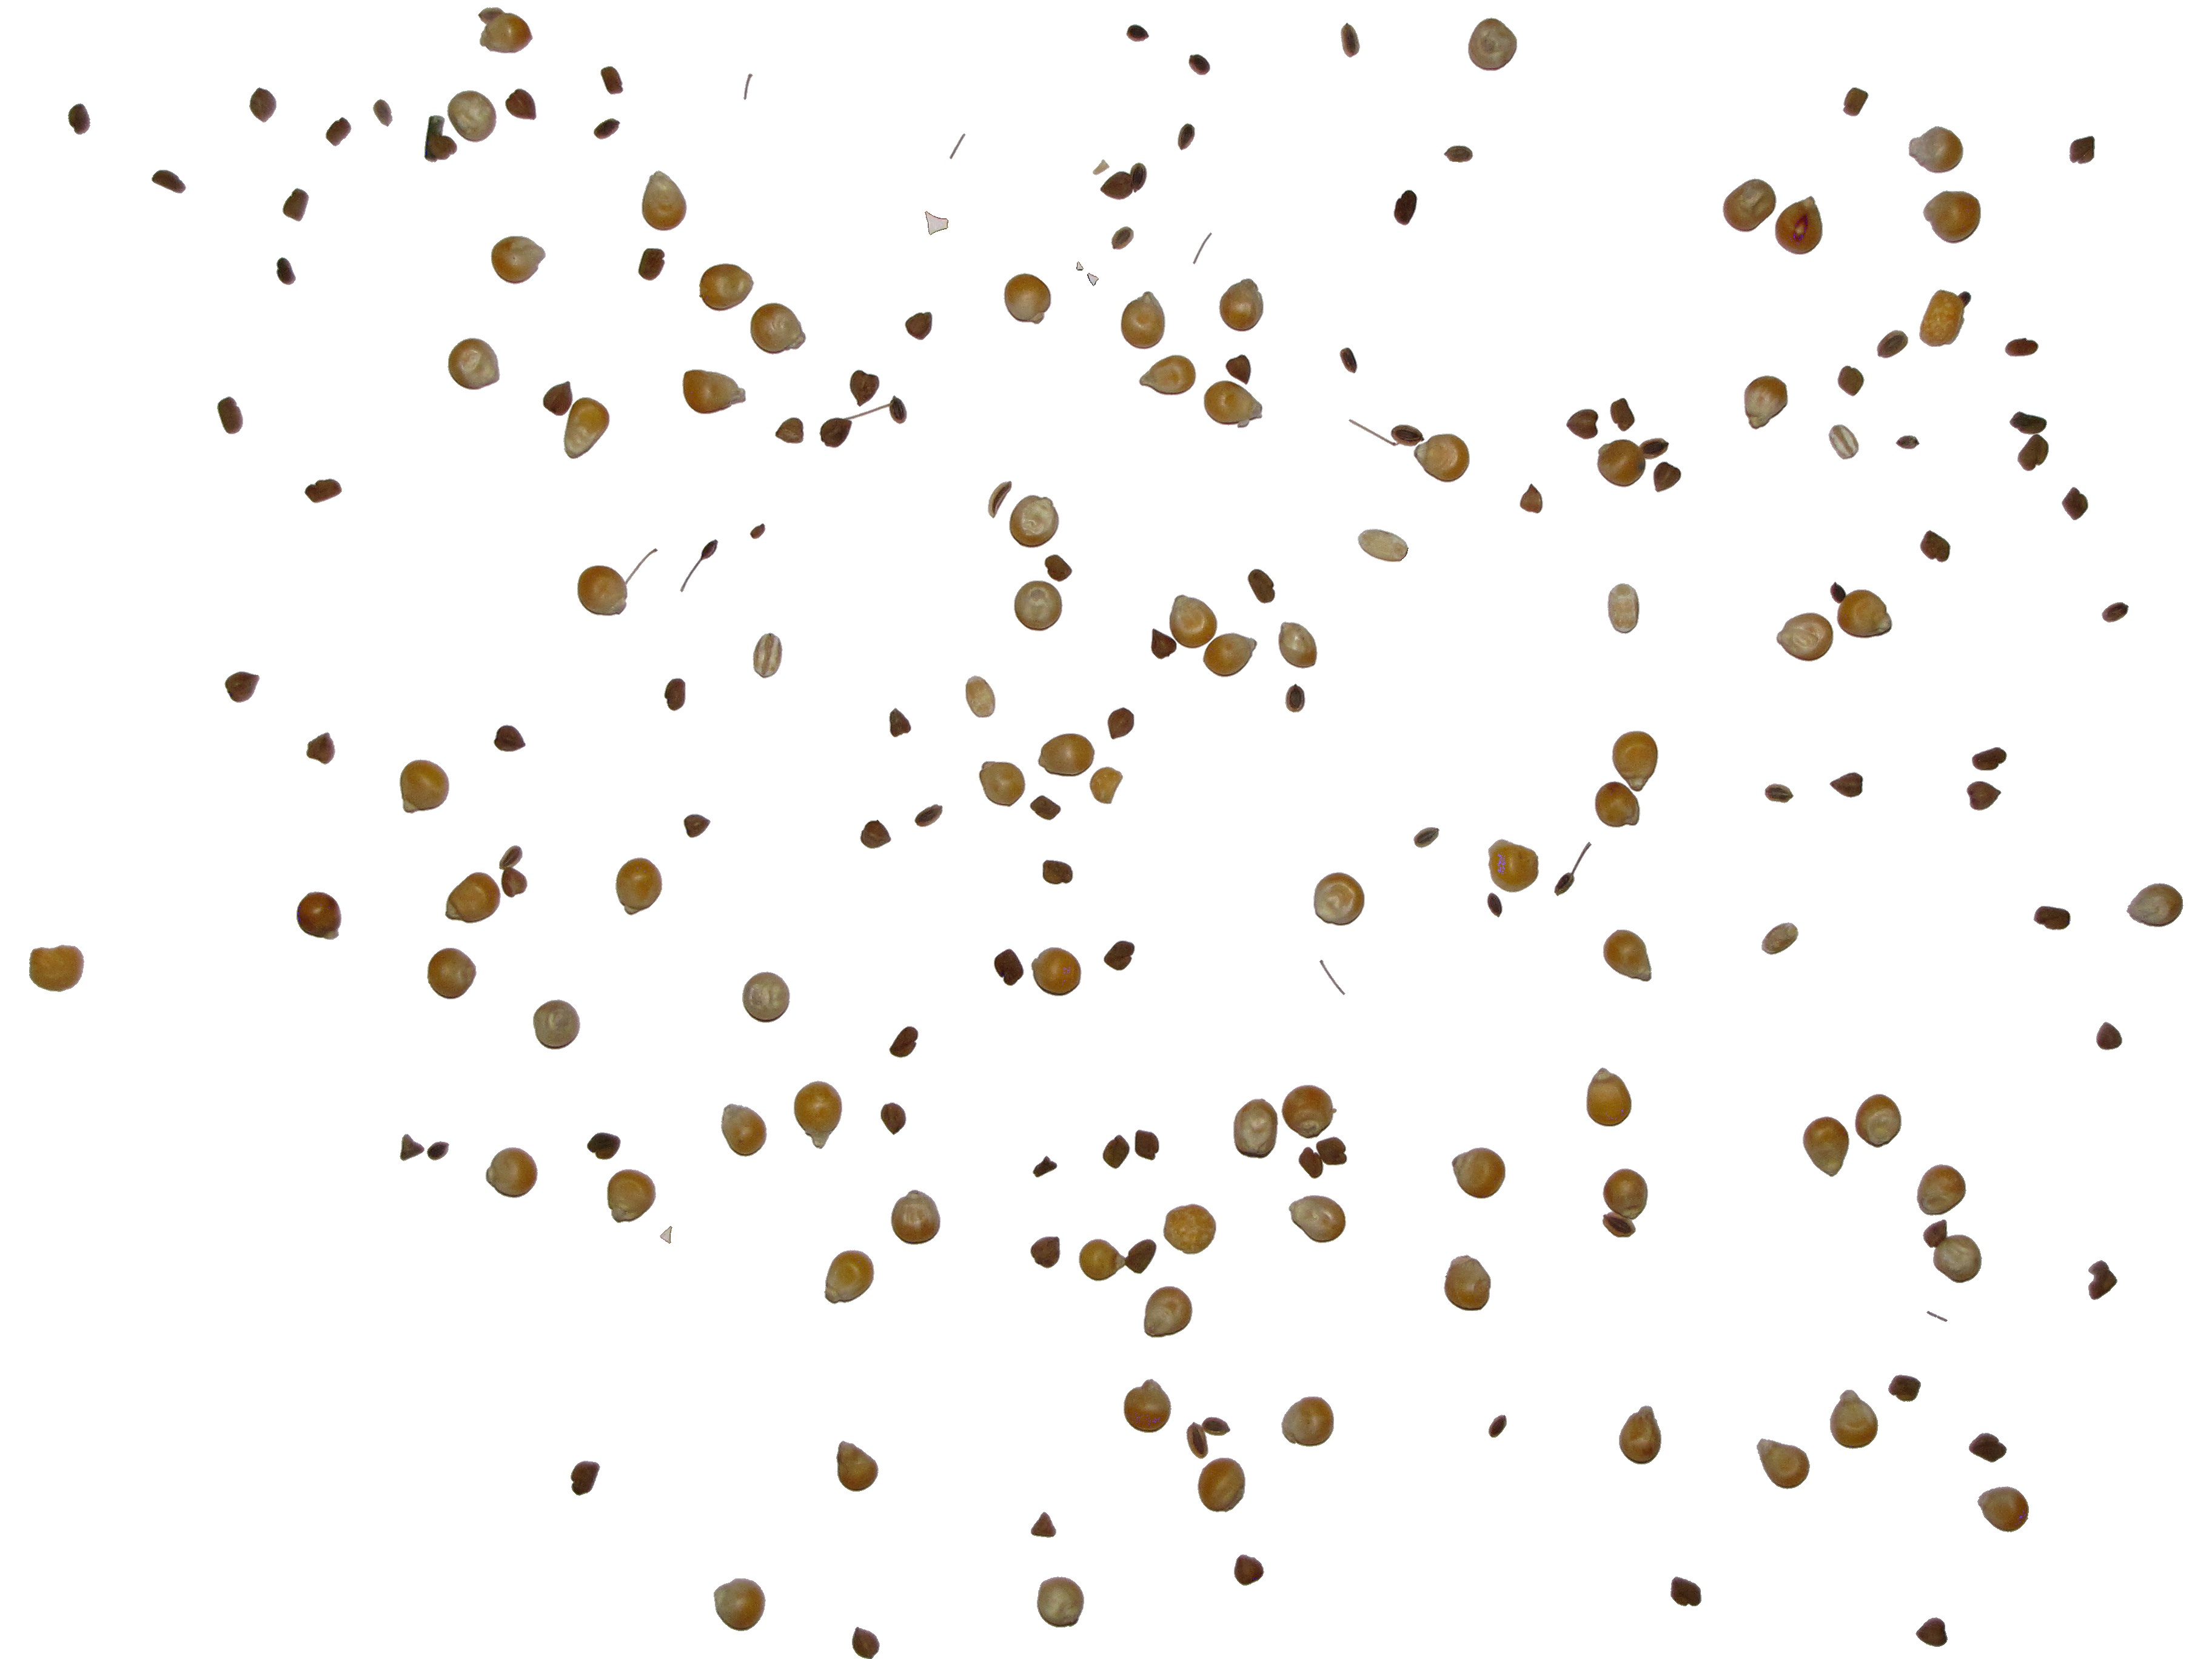buckwheat: (425, 115, 456, 162), (2088, 1260, 2116, 1300), (850, 369, 880, 406), (2019, 434, 2048, 471), (995, 950, 1024, 985), (225, 673, 260, 702), (1970, 1434, 2006, 1462), (505, 89, 536, 120), (1921, 530, 1951, 563), (543, 382, 573, 415), (1103, 1134, 1130, 1169), (1966, 782, 2001, 810), (1916, 1617, 1947, 1647), (1235, 1554, 1264, 1586), (1568, 410, 1599, 439), (1031, 1237, 1061, 1269), (1247, 570, 1275, 603), (571, 1464, 599, 1497), (500, 864, 528, 897), (1101, 171, 1134, 199), (820, 415, 848, 448), (249, 87, 275, 122), (988, 481, 1012, 518), (218, 397, 242, 434), (1104, 941, 1134, 971), (890, 1026, 918, 1058), (852, 1628, 880, 1659), (307, 732, 334, 763), (1670, 1577, 1702, 1605), (1888, 1375, 1921, 1401), (587, 1133, 620, 1159), (1393, 190, 1418, 225), (2010, 411, 2047, 434), (305, 479, 341, 502), (2034, 906, 2071, 929), (1653, 462, 1681, 491), (860, 821, 890, 849), (2062, 488, 2088, 519), (1831, 772, 1862, 798), (1108, 708, 1134, 739), (639, 249, 665, 281), (284, 188, 308, 221), (152, 171, 186, 193), (1972, 748, 2006, 770), (1047, 554, 1075, 582), (1838, 366, 1864, 396), (1878, 331, 1907, 357), (495, 725, 524, 751), (1339, 23, 1360, 59), (1611, 399, 1635, 430), (881, 1103, 906, 1134), (326, 118, 352, 146), (1843, 87, 1869, 115), (906, 312, 932, 340), (1226, 356, 1251, 385), (1151, 629, 1176, 659), (1029, 796, 1061, 819), (1186, 1422, 1205, 1459), (1299, 1143, 1318, 1180), (775, 418, 803, 443), (2069, 136, 2094, 164), (68, 105, 91, 134), (1136, 1131, 1158, 1161), (1045, 861, 1075, 884), (685, 814, 711, 838), (2097, 1023, 2121, 1049), (2005, 338, 2038, 357), (665, 678, 685, 711), (601, 66, 624, 94), (1521, 484, 1543, 512), (890, 708, 911, 737), (1031, 1513, 1055, 1537), (401, 1134, 423, 1161), (914, 805, 942, 826), (594, 118, 620, 139), (1764, 784, 1792, 803), (1285, 683, 1305, 711), (1111, 227, 1134, 249), (277, 258, 296, 284), (2102, 603, 2128, 622), (1033, 1157, 1057, 1176), (1414, 828, 1439, 847), (1444, 146, 1474, 162), (1177, 124, 1195, 150), (1190, 54, 1211, 75), (427, 1141, 449, 1161), (1339, 349, 1357, 373), (1489, 1415, 1507, 1438), (1127, 24, 1148, 42), (1487, 894, 1501, 917), (1897, 436, 1919, 448), (380, 99, 392, 120)
dill: (1555, 842, 1592, 896), (681, 540, 718, 592), (1350, 420, 1388, 446), (1320, 960, 1345, 995), (1195, 234, 1212, 261), (951, 134, 965, 159), (744, 73, 752, 99)
mais: (794, 1080, 841, 1148), (1602, 1169, 1648, 1237), (1923, 192, 1980, 244), (1919, 289, 1970, 347), (1723, 179, 1777, 232), (1282, 1086, 1336, 1138), (751, 303, 806, 354), (564, 397, 610, 458), (1233, 1098, 1278, 1159), (683, 369, 745, 413), (824, 1249, 874, 1303), (446, 873, 500, 924), (1414, 434, 1470, 483), (1289, 1195, 1346, 1243), (1831, 1391, 1878, 1448), (1775, 197, 1822, 254), (1204, 382, 1263, 427), (1803, 1117, 1848, 1176), (1613, 732, 1658, 791), (1163, 1204, 1216, 1255), (714, 1579, 765, 1631), (1453, 1148, 1505, 1199), (448, 338, 500, 389), (1313, 873, 1364, 925), (892, 1190, 941, 1244), (401, 760, 449, 814), (1444, 1255, 1491, 1310), (1777, 613, 1832, 660), (617, 857, 662, 915), (643, 171, 686, 230), (1757, 1439, 1810, 1488), (1468, 17, 1517, 70), (1010, 495, 1059, 547), (1282, 1398, 1334, 1446), (1489, 840, 1538, 892), (578, 561, 627, 613), (491, 237, 545, 284), (700, 263, 754, 310), (1170, 594, 1217, 648), (1838, 591, 1892, 638), (30, 945, 84, 992), (1122, 291, 1165, 349), (1587, 1068, 1630, 1126), (1602, 931, 1651, 981), (1918, 1164, 1966, 1215), (427, 948, 475, 999), (448, 91, 496, 141), (1014, 580, 1062, 631), (486, 1148, 536, 1197), (1123, 1380, 1170, 1432), (608, 1169, 655, 1222), (1198, 1459, 1245, 1511), (1909, 127, 1963, 173), (2127, 884, 2182, 927), (1620, 1406, 1662, 1464), (1031, 948, 1082, 995), (742, 972, 789, 1023), (1144, 1286, 1191, 1337), (721, 1105, 766, 1157), (1855, 1094, 1900, 1147), (1204, 633, 1258, 676), (479, 9, 533, 52), (1038, 734, 1094, 775), (1139, 356, 1197, 396), (533, 1000, 580, 1049), (1979, 1486, 2029, 1532), (1005, 274, 1050, 324), (1038, 1577, 1083, 1628), (1219, 279, 1263, 331), (1597, 437, 1642, 486), (1745, 376, 1787, 429), (979, 762, 1026, 807), (836, 1441, 878, 1492), (1080, 1239, 1125, 1284), (298, 892, 341, 939), (1595, 782, 1639, 828), (1942, 1236, 1982, 1283), (1278, 622, 1317, 667), (1359, 530, 1407, 561), (1090, 767, 1123, 803)
other: (1608, 584, 1639, 634), (752, 633, 782, 678), (967, 676, 995, 718), (1763, 924, 1797, 955), (1829, 425, 1858, 458), (925, 211, 948, 235), (1831, 582, 1846, 603), (751, 525, 765, 538), (660, 1227, 672, 1243), (1089, 274, 1097, 286)
